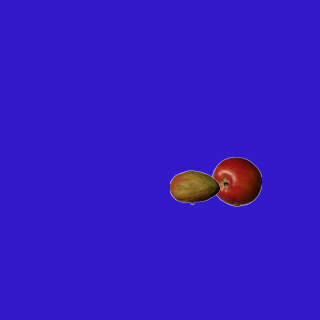Apple Braeburn: (211, 156, 261, 206)
Papaya: (169, 162, 219, 212)
